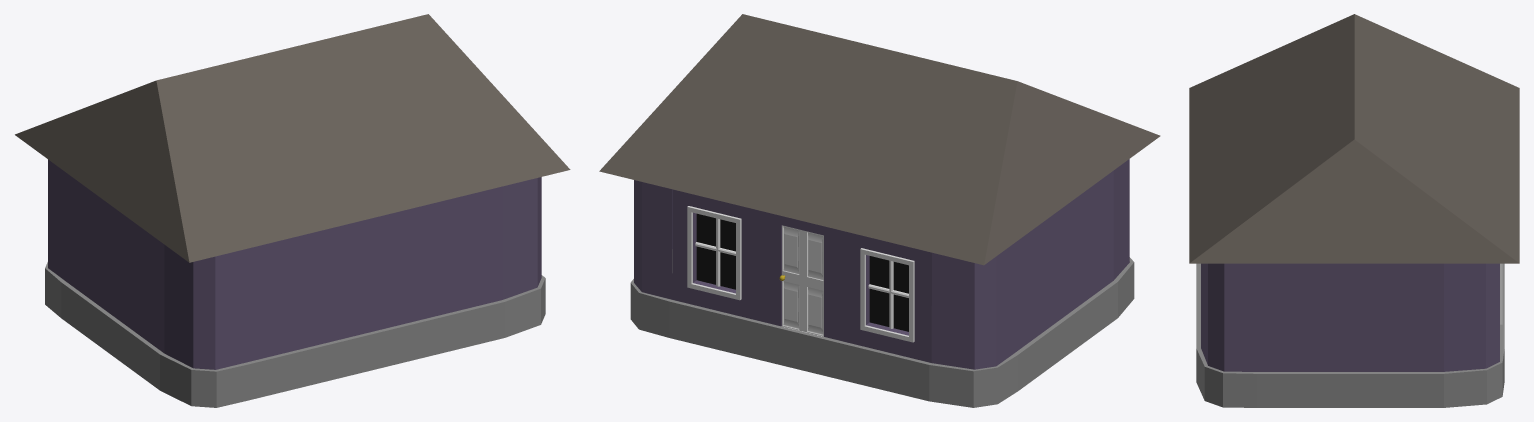
File: house_5.1.fbx
3 views of the same model, side by side, from view 1: azimuth 30°, elevation 25°; view 2: azimuth 150°, elevation 25°; view 3: azimuth 270°, elevation 25° (orthographic). The views are drawn at different scales.
Parts seen in each view (by area): view 1: pPlane83; view 2: pPlane83; view 3: pPlane83.
Part boxes in pixels (x1=…): pPlane83: x1=15, y1=14, x2=570, y2=407; pPlane83: x1=599, y1=14, x2=1160, y2=407; pPlane83: x1=1189, y1=14, x2=1519, y2=407.
Bounding box in the file's own units: 155698 × 101834 × 123897.
